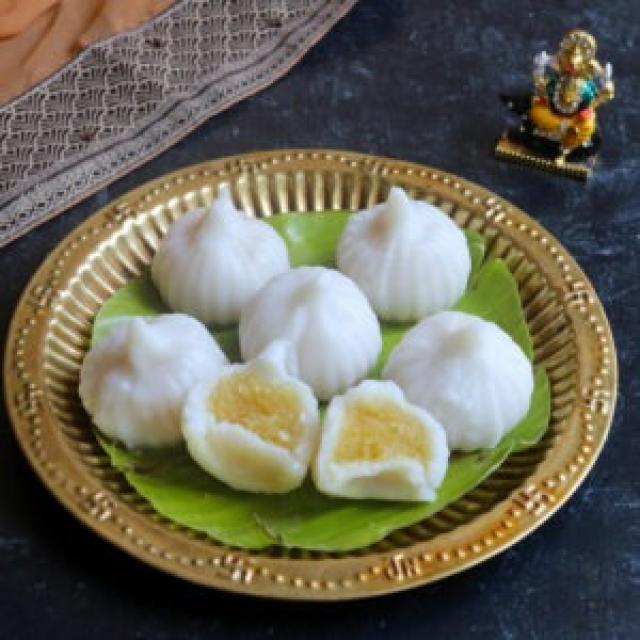poorna kolukattai: (51, 175, 564, 553)
